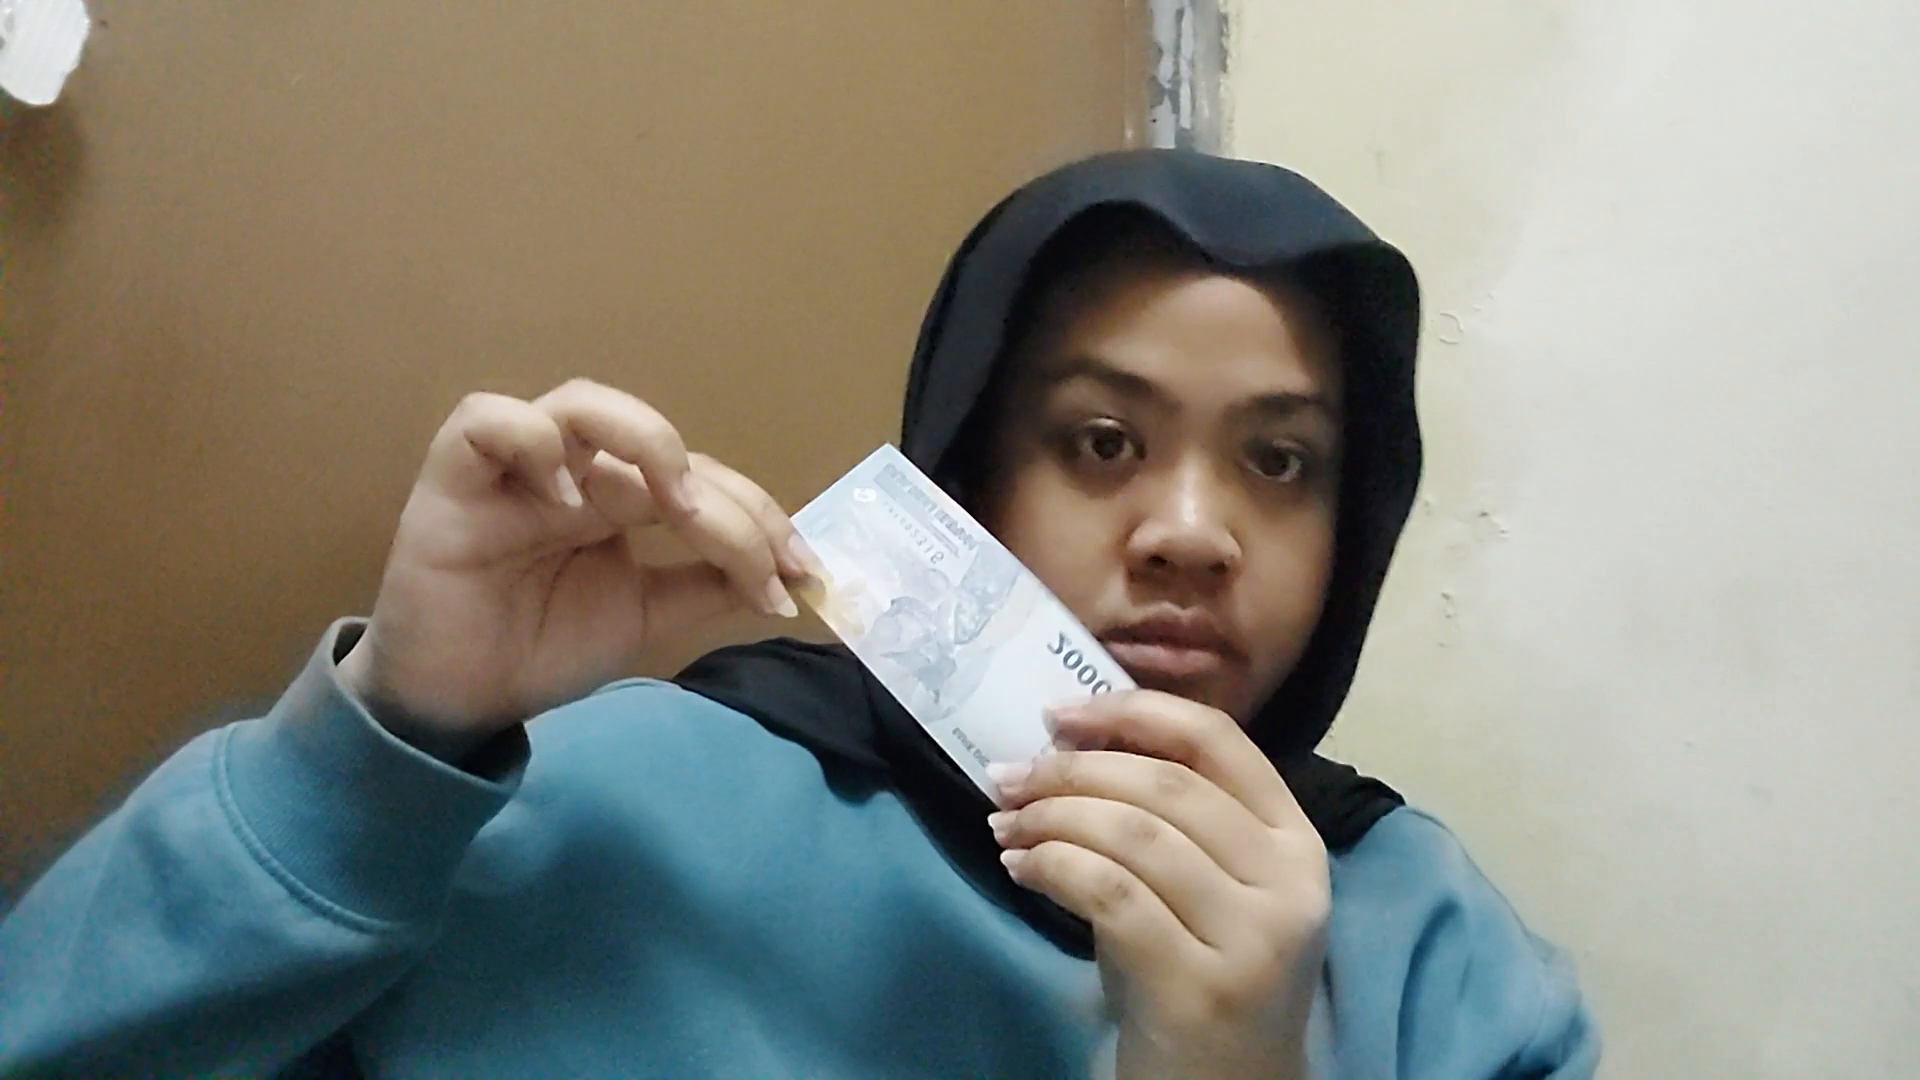2k: (893, 448, 1242, 615)
